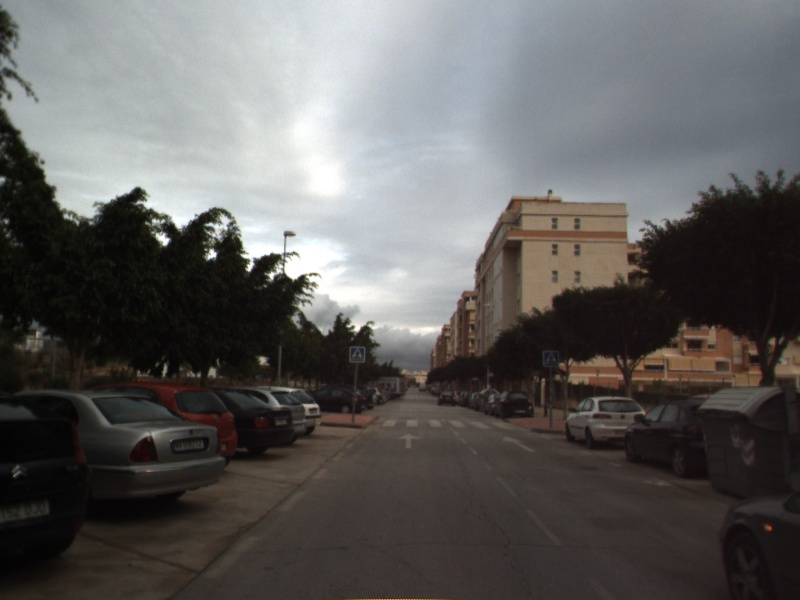STRAIGHT: (501, 434, 537, 454), (396, 431, 422, 450)
